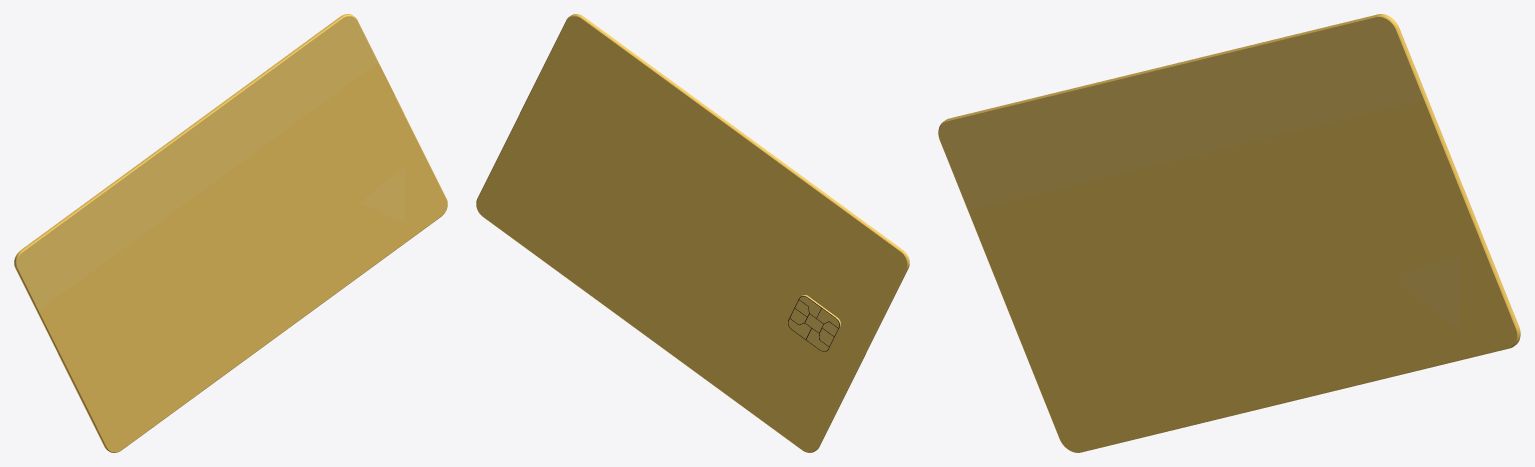
File: card.glb
3 renders of one model, left to right at view 1: azimuth 30°, elevation 25°; view 2: azimuth 150°, elevation 25°; view 3: azimuth 330°, elevation 25°, orthographic. The views are drawn at different scales.
Parts seen in each view (by area): view 1: Rectangle001_1, Rectangle002_2, Rectangle_0, Star_4; view 2: Rectangle003_3, Rectangle_0, Curve_6; view 3: Rectangle001_1, Rectangle002_2, Rectangle_0, Star_4.
Part boxes in pixels (x1=…): Rectangle001_1: x1=39, y1=63, x2=447, y2=452; Rectangle002_2: x1=16, y1=16, x2=377, y2=310; Rectangle_0: x1=14, y1=14, x2=447, y2=452; Star_4: x1=360, y1=166, x2=405, y2=221; Rectangle003_3: x1=476, y1=16, x2=907, y2=452; Rectangle_0: x1=476, y1=14, x2=909, y2=452; Curve_6: x1=788, y1=295, x2=840, y2=351; Rectangle001_1: x1=968, y1=100, x2=1517, y2=452; Rectangle002_2: x1=939, y1=17, x2=1423, y2=210; Rectangle_0: x1=938, y1=14, x2=1520, y2=452; Star_4: x1=1398, y1=256, x2=1459, y2=330.
Size of the model in its own units: 0.173 by 0.1458 by 0.00255.
